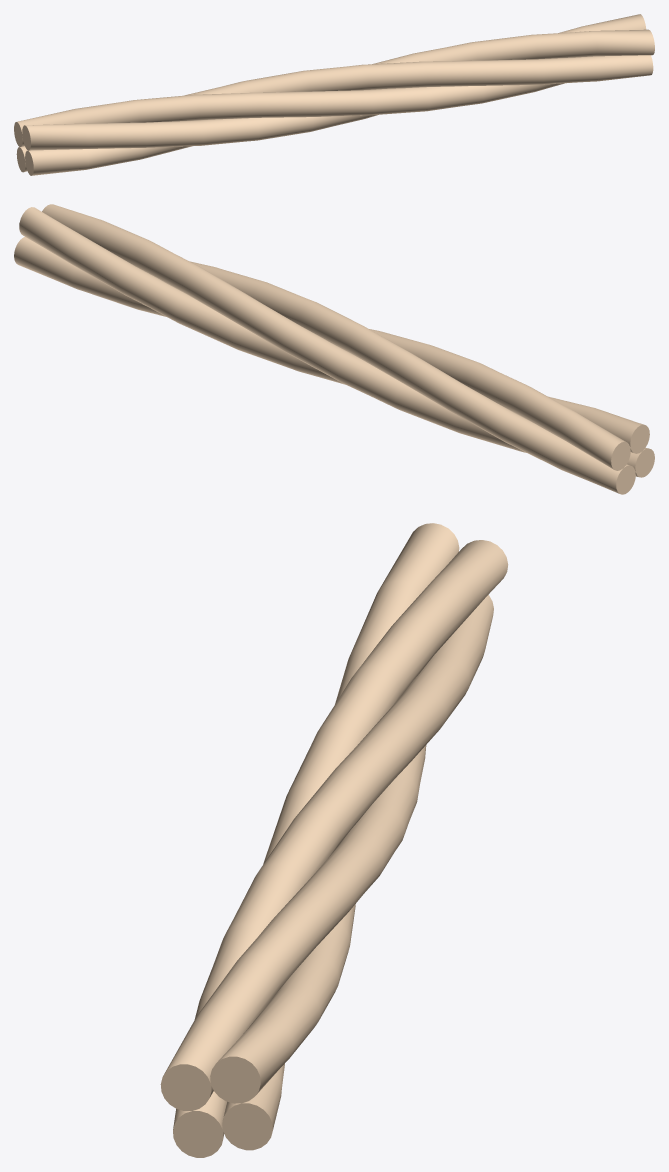
File: Rope1.fbx
The picture shows the model from 3 angles, top to bottom: view 1: azimuth 30°, elevation 25°; view 2: azimuth 150°, elevation 25°; view 3: azimuth 270°, elevation 25°; orthographic projection. The views are drawn at different scales.
Parts seen in each view (by area): view 1: pCylinder24; view 2: pCylinder24; view 3: pCylinder24.
Boxes of the visible parts, x1=… form: pCylinder24: x1=14, y1=14, x2=654, y2=175; pCylinder24: x1=14, y1=204, x2=654, y2=494; pCylinder24: x1=160, y1=523, x2=508, y2=1157.
Bounding box in the file's own units: 168 × 17.54 × 44.11.
